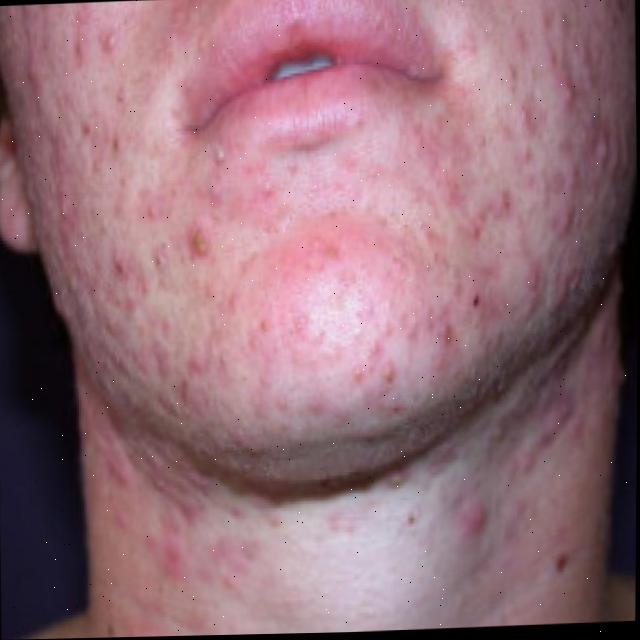Acne: (52, 0, 598, 451)
